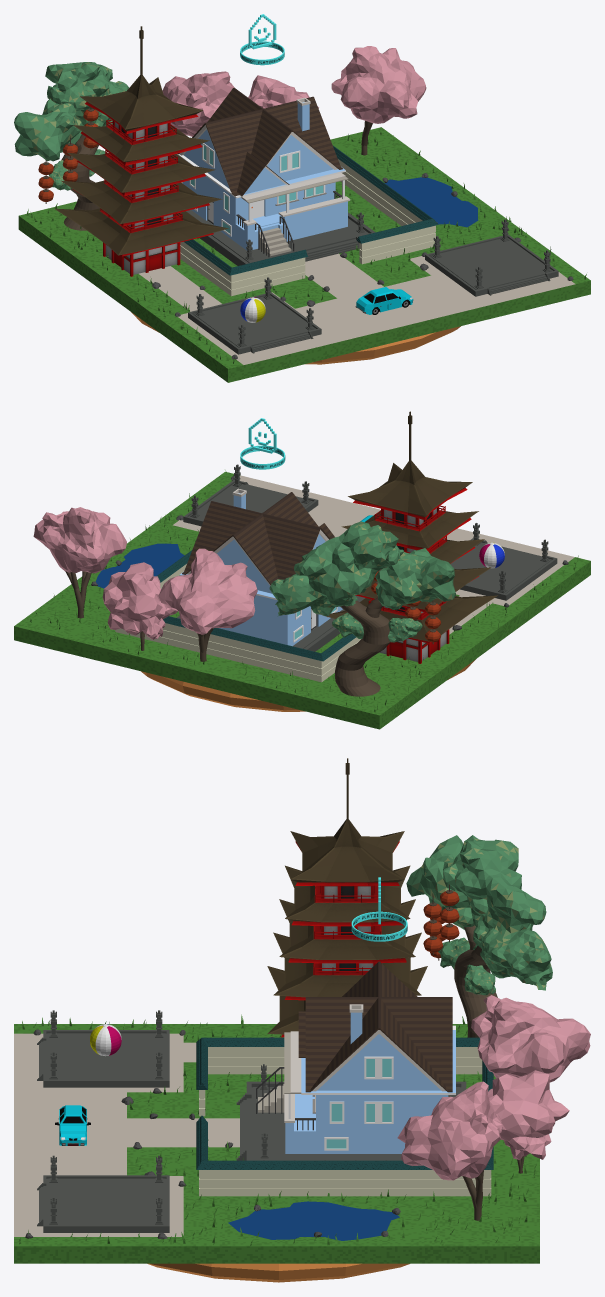
3 renders of one model, top to bottom at view 1: azimuth 30°, elevation 25°; view 2: azimuth 150°, elevation 25°; view 3: azimuth 270°, elevation 25°, orthographic. The views are drawn at different scales.
Parts seen in each view (by area): view 1: Cube.005, Cube.1594, UNDERGROUND_PIZZA, VEHICLES_CAR, TYPE_PREMIUM, OBJRANDOM_BEACHBALL; view 2: Cube.005, Cube.1594, UNDERGROUND_PIZZA, TYPE_PREMIUM, OBJRANDOM_BEACHBALL; view 3: Cube.005, Cube.1594, UNDERGROUND_PIZZA, VEHICLES_CAR, TYPE_PREMIUM, OBJRANDOM_BEACHBALL.
Boxes of the visible parts, x1,y1,x2,y2 form: Cube.005: [14, 26, 590, 382]; Cube.1594: [177, 87, 350, 257]; UNDERGROUND_PIZZA: [131, 312, 460, 364]; VEHICLES_CAR: [355, 287, 413, 314]; TYPE_PREMIUM: [240, 14, 284, 65]; OBJRANDOM_BEACHBALL: [240, 297, 265, 322]; Cube.005: [14, 411, 590, 729]; Cube.1594: [179, 488, 342, 646]; UNDERGROUND_PIZZA: [141, 659, 475, 711]; TYPE_PREMIUM: [240, 418, 285, 469]; OBJRANDOM_BEACHBALL: [479, 542, 504, 568]; Cube.005: [14, 758, 590, 1263]; Cube.1594: [256, 961, 455, 1153]; UNDERGROUND_PIZZA: [147, 1263, 409, 1282]; VEHICLES_CAR: [55, 1105, 90, 1145]; TYPE_PREMIUM: [351, 877, 407, 941]; OBJRANDOM_BEACHBALL: [90, 1024, 121, 1056].
Bounding box in the file's own units: 4528 × 2902 × 4389.
Materials: 45 (6 with a texture image).
